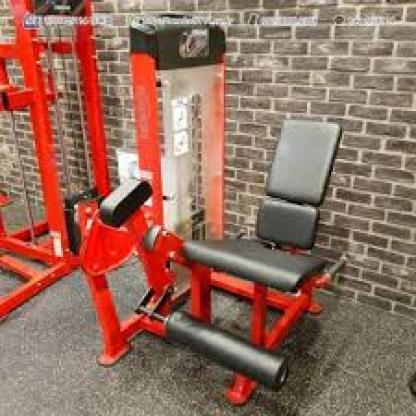leg extension: (62, 11, 357, 409)
